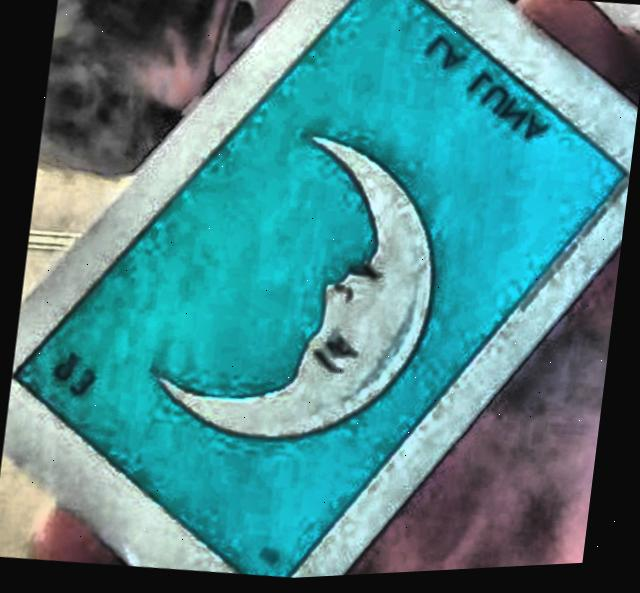La Luna: (14, 0, 625, 580)
